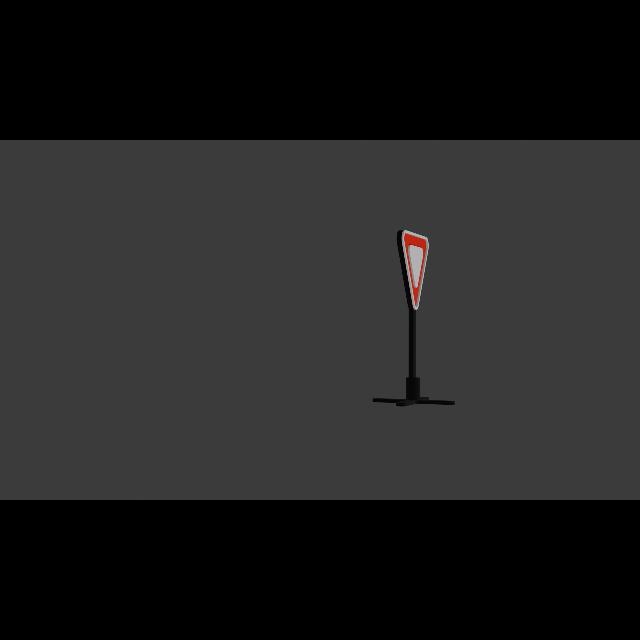sign_yield: (401, 230, 430, 310)
